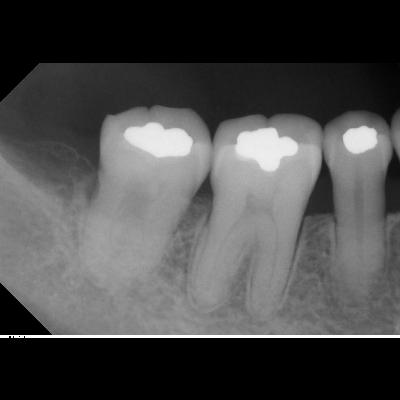tooth: (322, 109, 394, 308)
